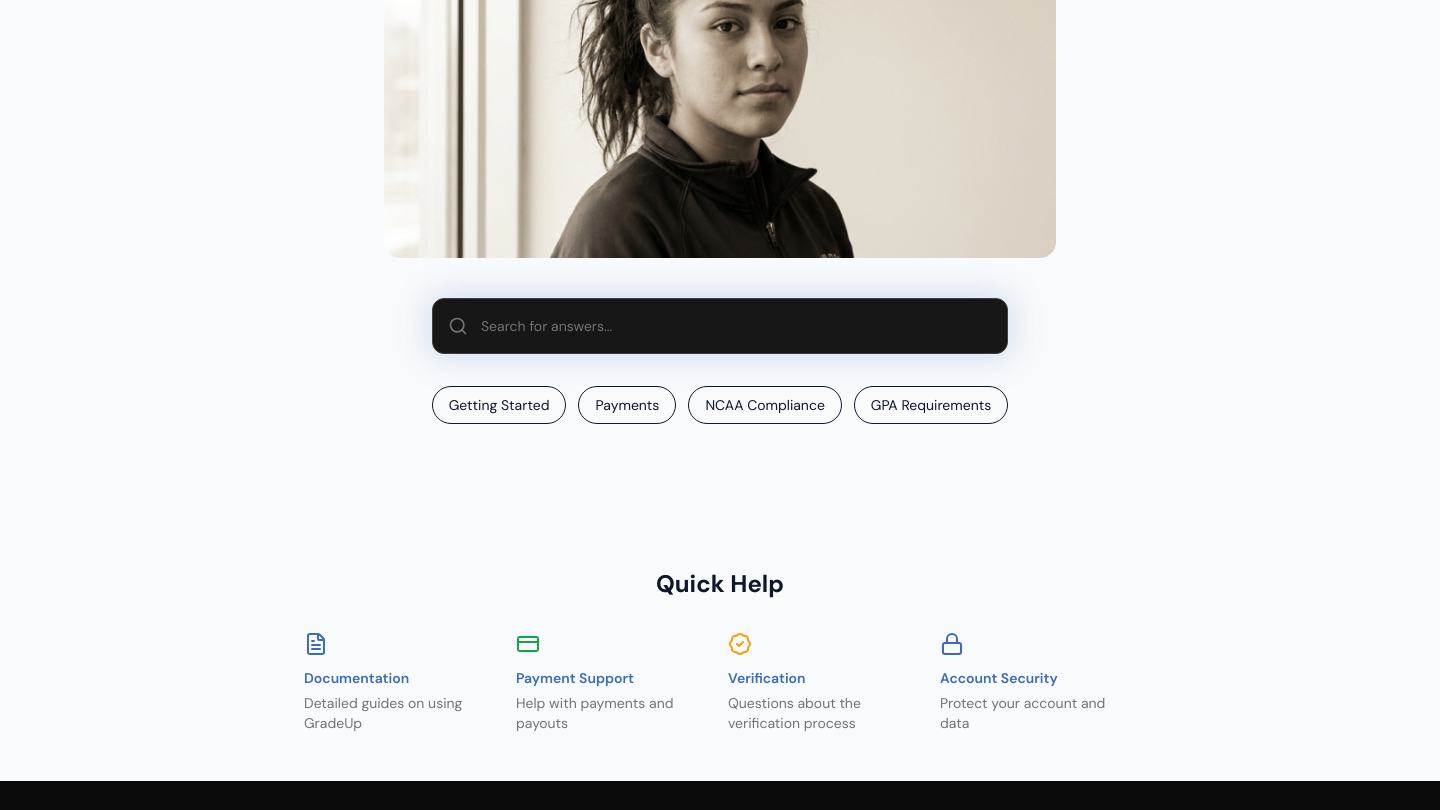
Test: HelpPage › Hero Section › updates search when quick search button is clicked
(page scrolled)
Click the button "Payments" at (627, 405), box [578,386,676,424]
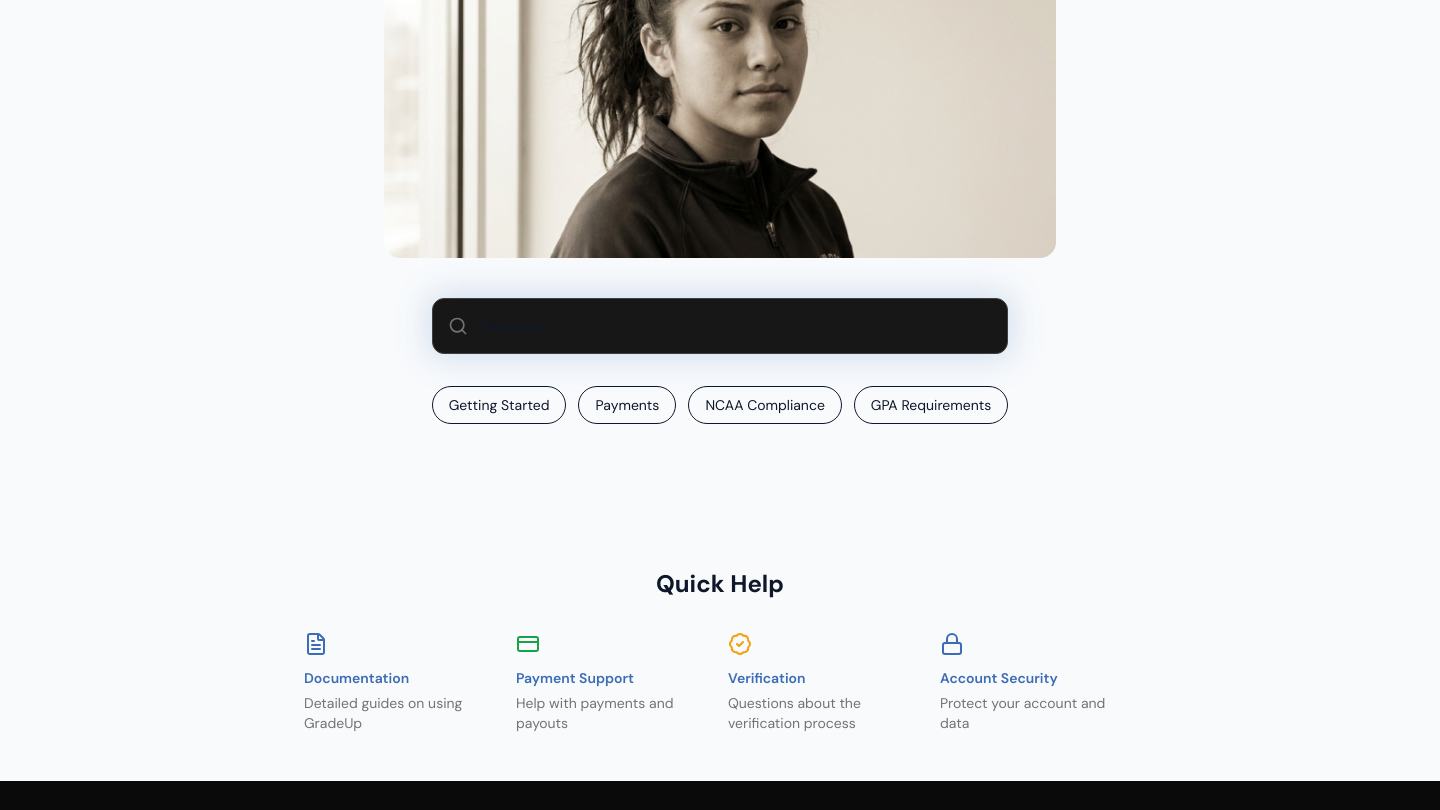
Expected: the search field with placeholder "Search for answers..." holds "Payments", [432,298,1008,354]
